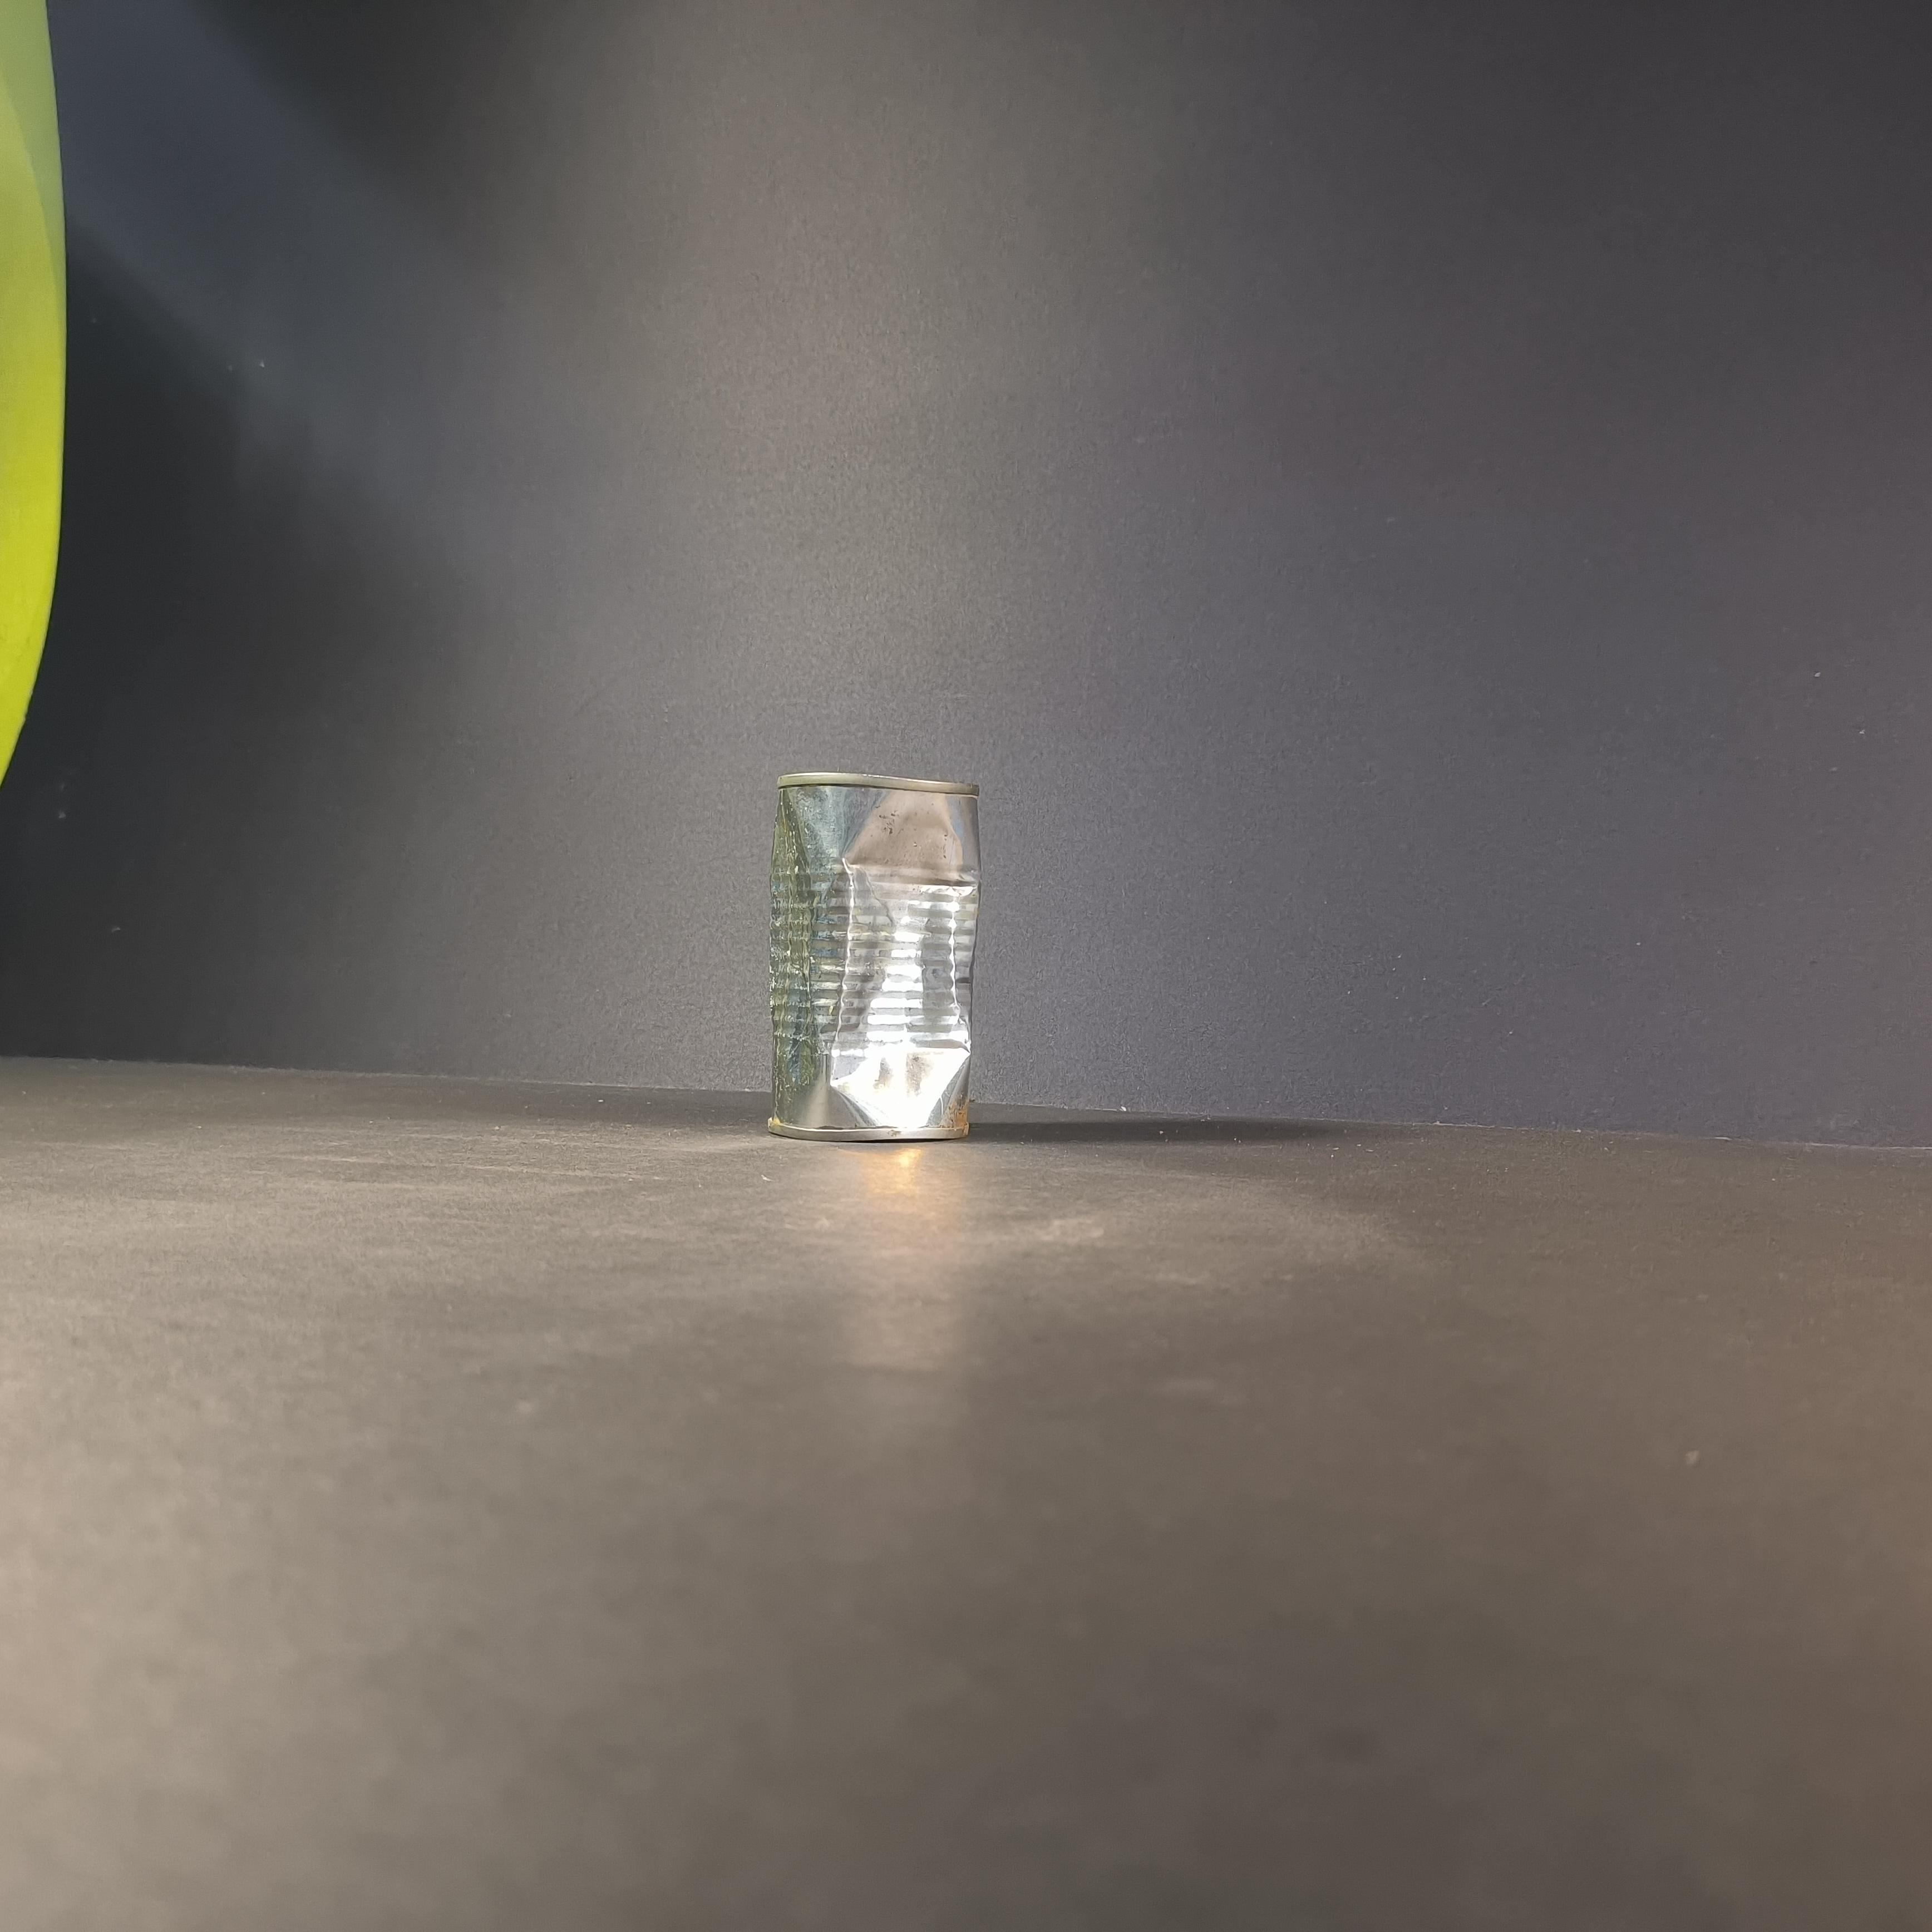Dented: (729, 743, 1005, 1187)
